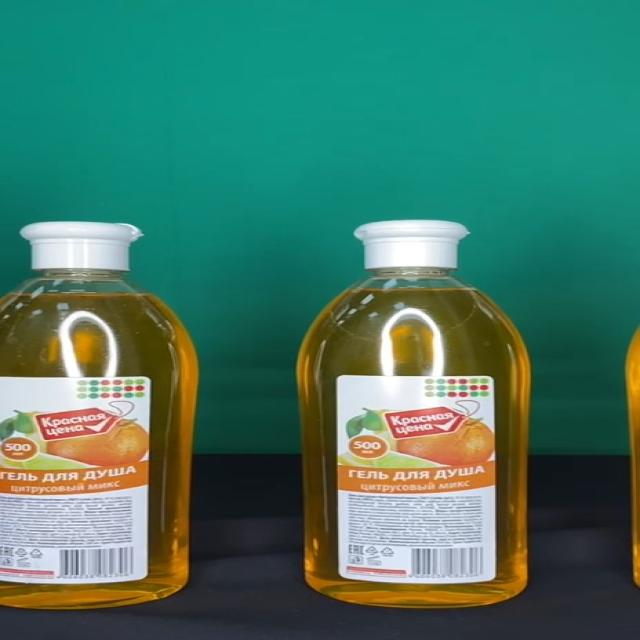Bottle: (298, 220, 531, 609), (0, 220, 201, 610)
Cap: (20, 220, 146, 272), (354, 220, 472, 268)
